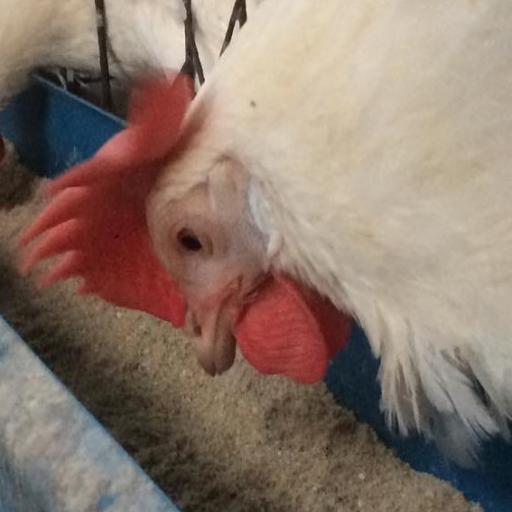healthy: (71, 91, 307, 349)
